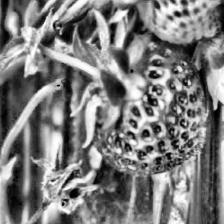Gray Mold: (31, 139, 96, 213)
